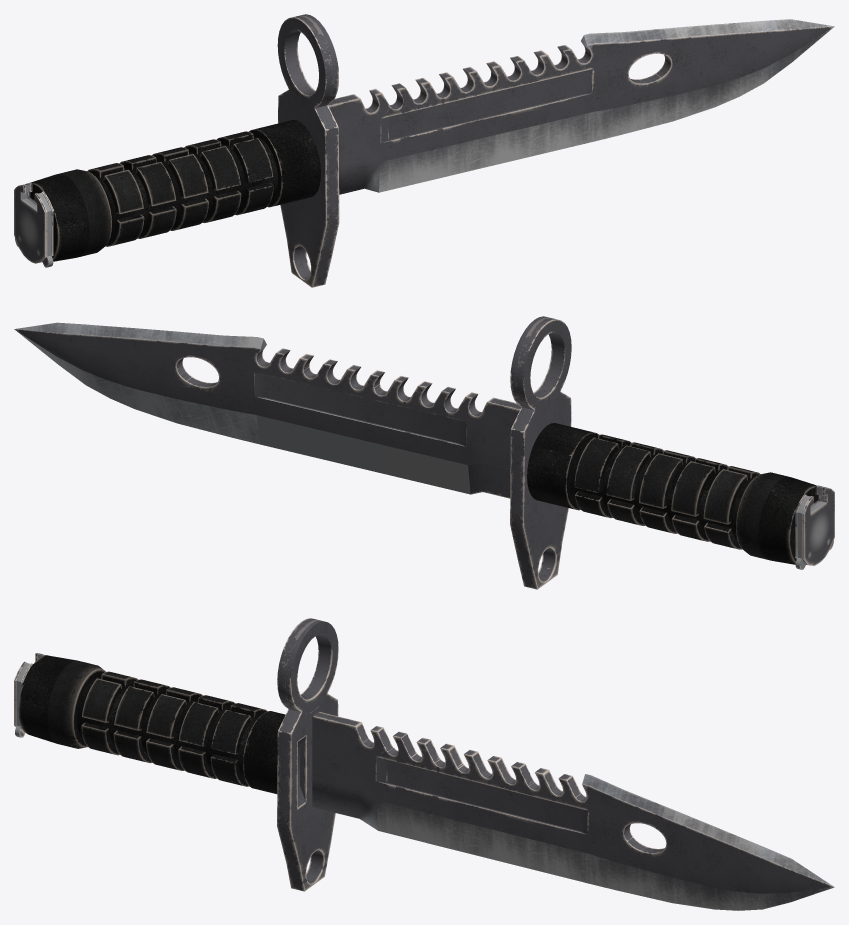
The model's file is m9_bayonet_knife.glb.
3 renders of one model, top to bottom at view 1: azimuth 30°, elevation 25°; view 2: azimuth 150°, elevation 25°; view 3: azimuth 330°, elevation 25°, orthographic.
Parts seen in each view (by area): view 1: Knife-Low; view 2: Knife-Low; view 3: Knife-Low.
Boxes of the visible parts, left/top/right/bottom form: Knife-Low: left=14, top=14, right=834, bottom=287; Knife-Low: left=14, top=316, right=834, bottom=589; Knife-Low: left=14, top=618, right=834, bottom=910.
Bounding box in the file's own units: 3.81 × 1.17 × 0.398.
Materials: 3 (3 with a texture image).
